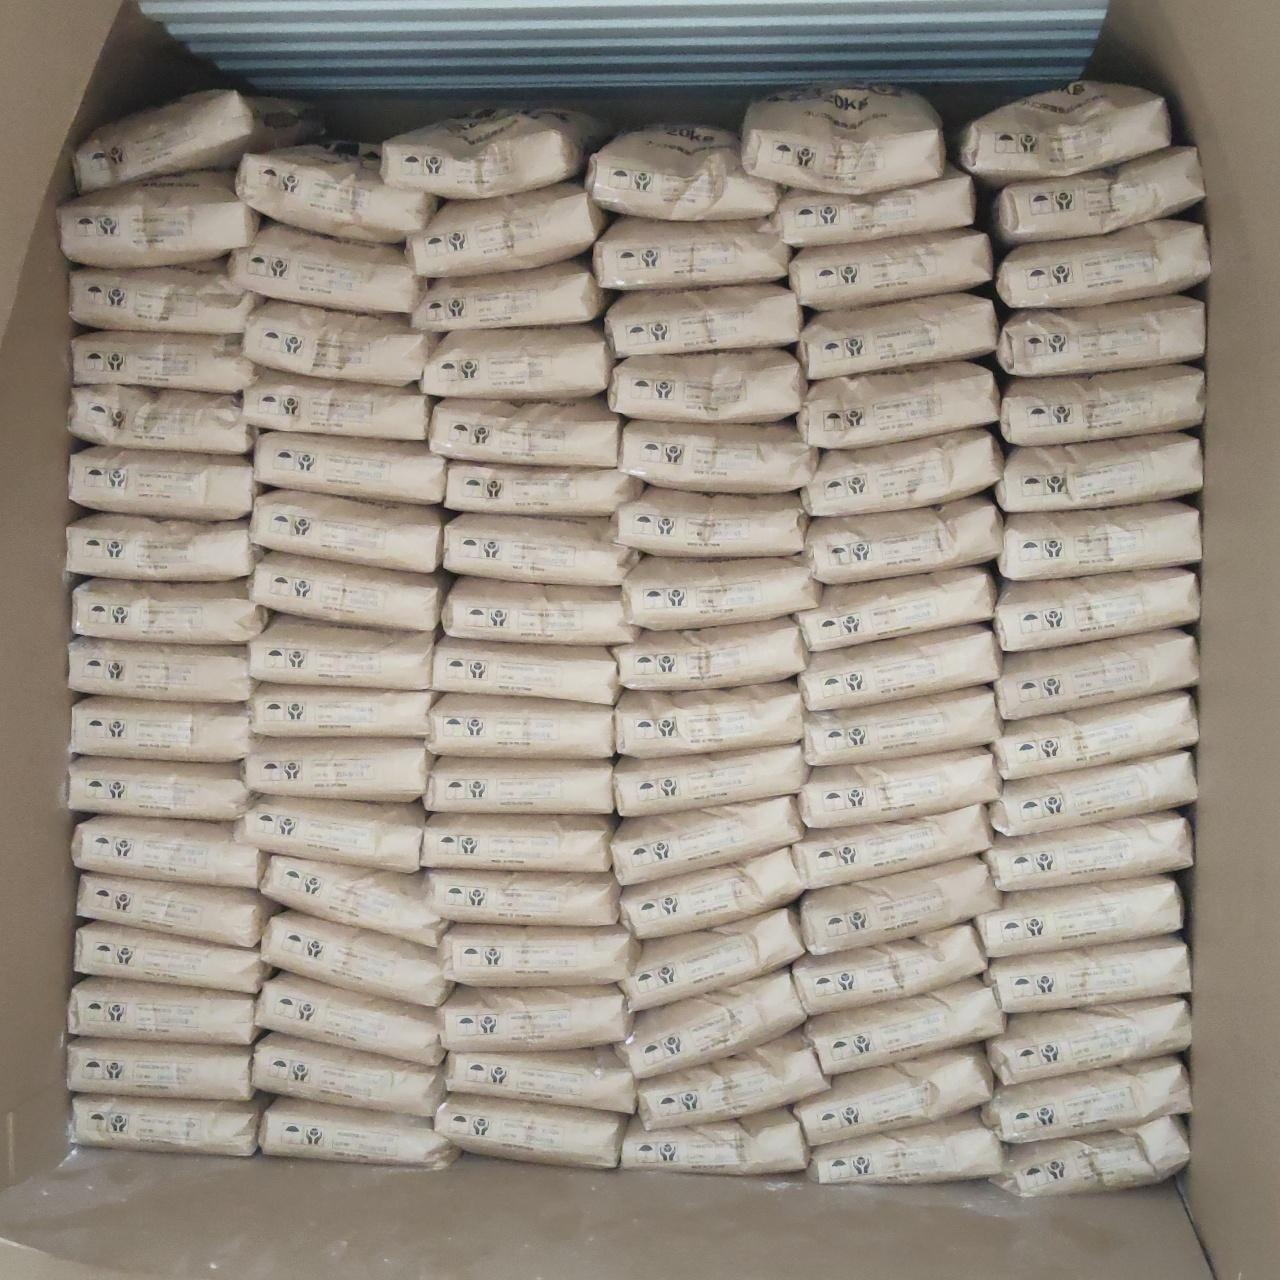sack: (76, 91, 322, 190), (962, 82, 1170, 186), (742, 88, 942, 190), (380, 108, 612, 196), (994, 148, 1201, 244), (618, 971, 804, 1076), (794, 1046, 990, 1142), (408, 182, 606, 275), (804, 978, 1002, 1070), (998, 220, 1206, 308), (238, 147, 436, 238), (799, 858, 998, 949), (60, 172, 258, 263), (640, 1032, 828, 1126), (624, 908, 799, 1008), (263, 912, 450, 1005), (996, 632, 1196, 719), (588, 125, 778, 216), (794, 924, 983, 1014), (983, 1058, 1189, 1142), (230, 222, 422, 309), (804, 496, 998, 583), (990, 753, 1194, 835), (976, 876, 1182, 956), (798, 362, 998, 445), (994, 694, 1196, 776), (804, 430, 1000, 515), (798, 294, 996, 377), (620, 847, 802, 938), (996, 570, 1198, 651), (988, 998, 1190, 1078), (799, 626, 998, 708), (796, 568, 994, 651), (258, 974, 442, 1062), (998, 297, 1204, 374), (983, 812, 1190, 890), (1000, 366, 1201, 444), (612, 798, 802, 881), (790, 230, 990, 308), (794, 806, 990, 886), (992, 1116, 1189, 1196), (264, 856, 444, 942), (254, 1034, 444, 1116), (996, 434, 1200, 510), (246, 300, 434, 382), (986, 937, 1189, 1012), (772, 170, 972, 246), (1000, 502, 1198, 578), (799, 748, 998, 824), (804, 688, 998, 764), (250, 554, 445, 629), (252, 490, 444, 566), (622, 556, 821, 628), (422, 324, 612, 399), (622, 420, 813, 492), (70, 263, 263, 334), (411, 260, 606, 331), (79, 874, 275, 944), (606, 286, 799, 356), (238, 796, 422, 870), (610, 350, 804, 420), (70, 448, 260, 518), (594, 218, 790, 286), (810, 1112, 1002, 1182), (74, 816, 263, 886), (612, 488, 806, 556), (254, 433, 445, 502), (444, 515, 638, 583), (436, 1096, 622, 1166), (614, 618, 806, 686), (76, 922, 268, 990), (617, 682, 802, 753), (617, 745, 806, 813), (260, 1098, 456, 1164), (241, 370, 430, 438), (248, 617, 433, 686), (442, 578, 636, 642), (68, 515, 258, 580), (70, 978, 256, 1044), (70, 386, 254, 452), (74, 580, 266, 644), (430, 399, 620, 462), (445, 1048, 636, 1110), (434, 638, 618, 702), (622, 1108, 806, 1172), (72, 1094, 263, 1155), (440, 924, 638, 982), (428, 694, 612, 756), (440, 986, 629, 1046), (70, 638, 252, 700), (68, 1039, 252, 1099), (244, 738, 430, 798), (70, 758, 250, 821), (72, 697, 252, 758), (74, 332, 254, 390), (444, 462, 640, 516), (424, 813, 612, 870), (424, 870, 618, 924), (425, 758, 612, 812), (248, 685, 434, 734)
